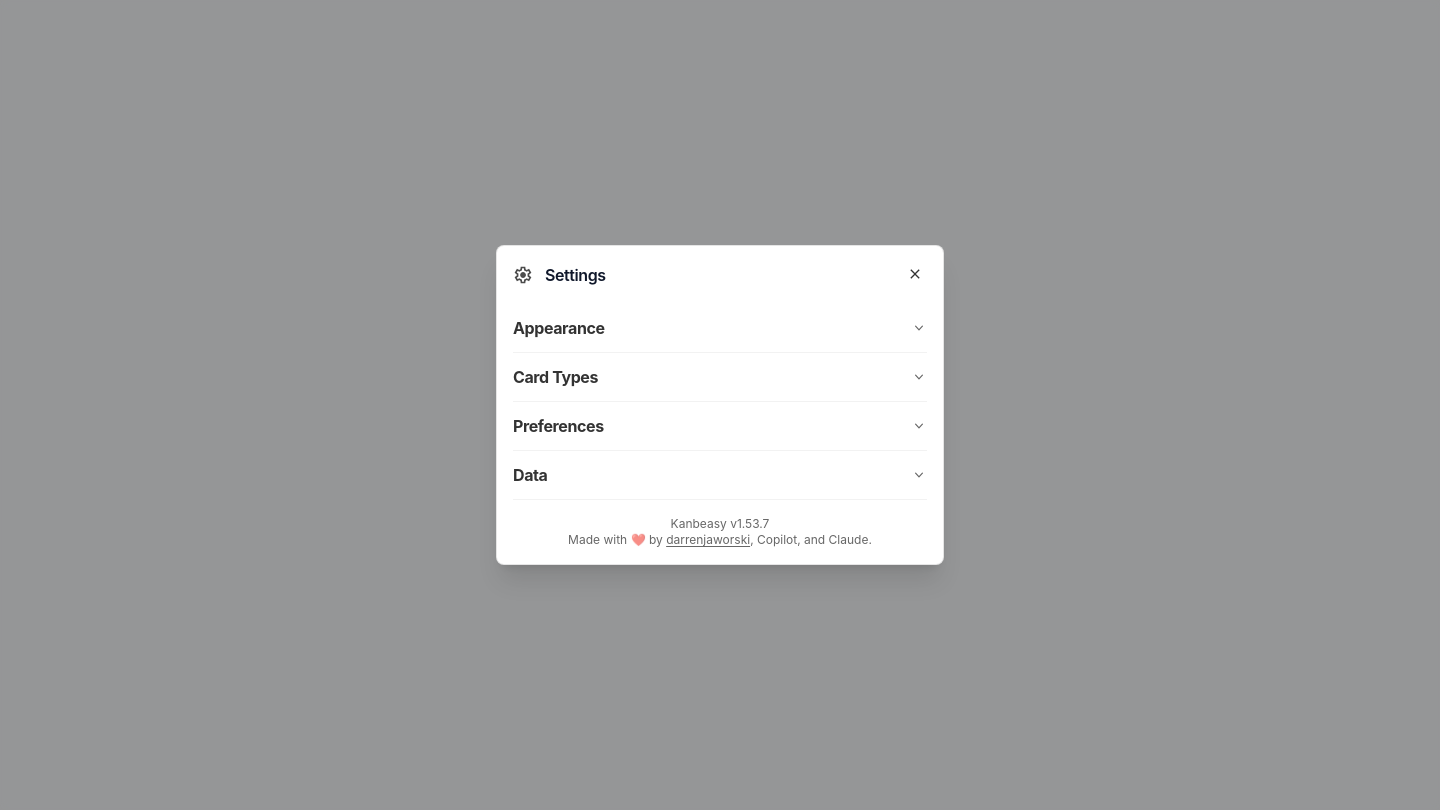
Scenario: SettingsModal › renders three separate clear buttons
Click the button "Data" at (530, 475), box [513,451,927,499]
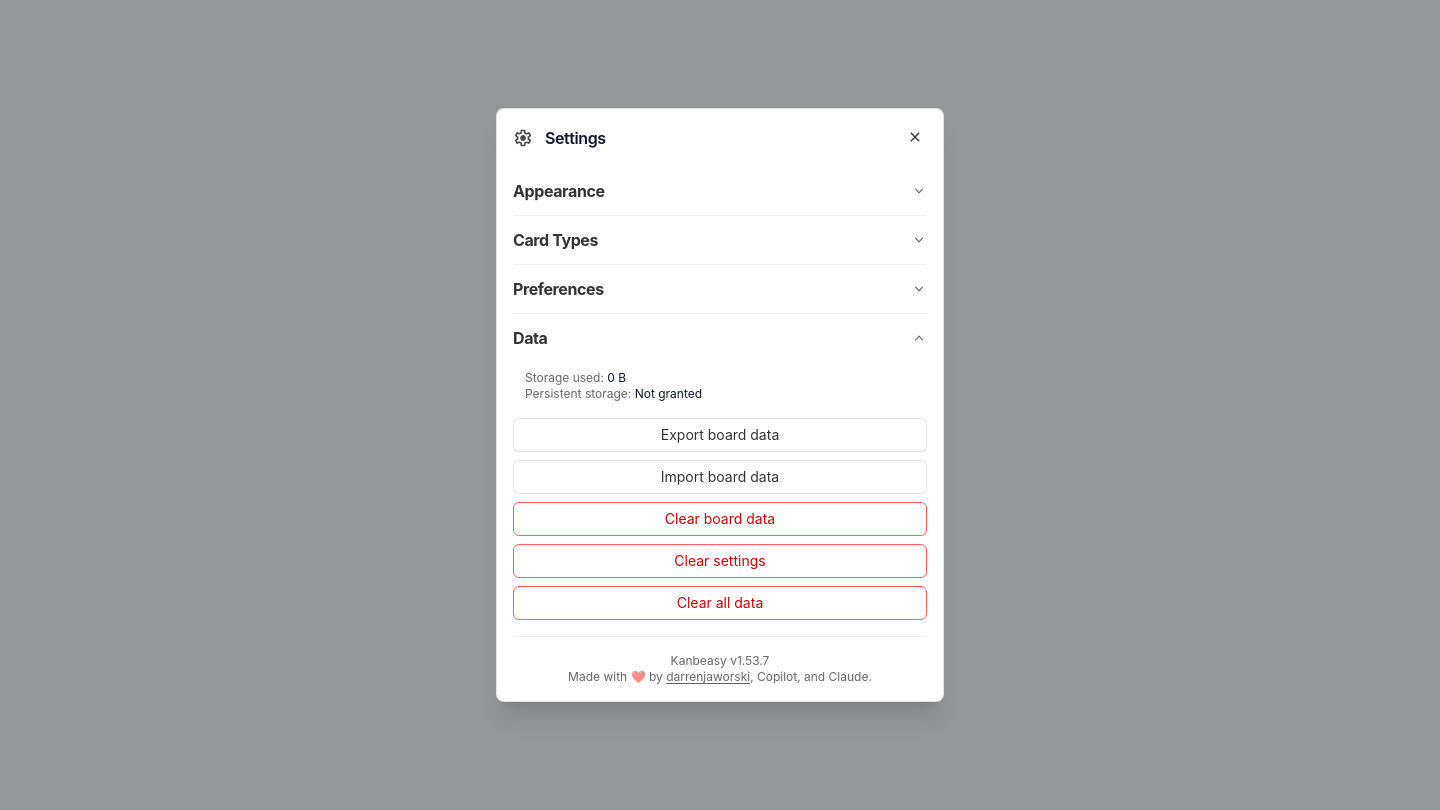
Expected: the button "Clear board data" is shown, [513,502,927,536]
Expected: the button "Clear settings" is shown, [513,544,927,578]
Expected: the button "Clear all data" is shown, [513,586,927,620]
